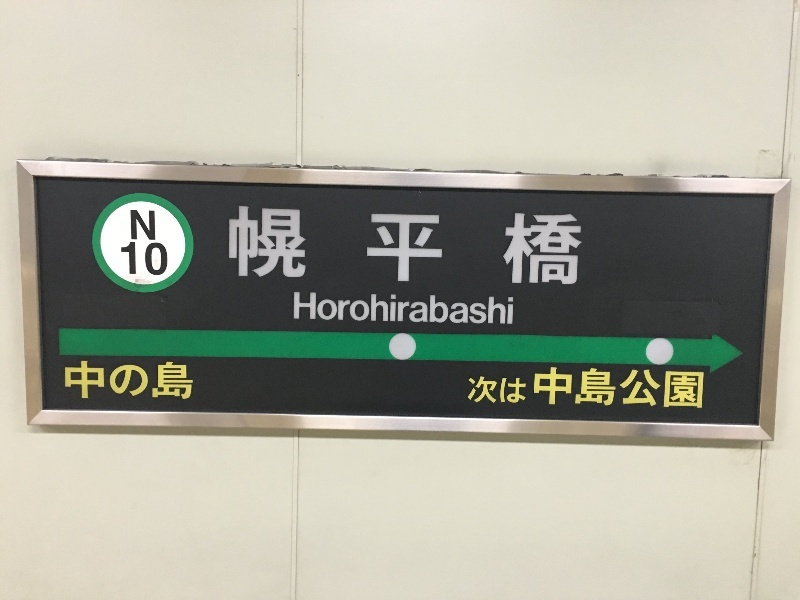text: (241, 204, 256, 288), (257, 204, 272, 288), (273, 204, 288, 288), (289, 204, 304, 288), (305, 204, 320, 288), (321, 204, 336, 288), (337, 204, 352, 288), (353, 204, 368, 288), (369, 204, 384, 288), (385, 204, 400, 288), (401, 204, 416, 288), (417, 204, 432, 288), (433, 204, 448, 288), (449, 204, 464, 288), (465, 204, 480, 288), (481, 204, 496, 288), (497, 204, 512, 288), (513, 204, 528, 288), (529, 204, 544, 288), (545, 204, 560, 288), (561, 204, 576, 288), (229, 204, 240, 288), (545, 364, 560, 412), (561, 364, 576, 412), (577, 364, 592, 412), (593, 364, 608, 412), (609, 364, 624, 412), (625, 364, 640, 412), (641, 364, 656, 412), (657, 364, 672, 412), (673, 364, 688, 412), (689, 364, 704, 412), (65, 358, 80, 403), (81, 358, 96, 403), (97, 358, 112, 403), (113, 358, 128, 403), (129, 358, 144, 403), (145, 358, 160, 403), (161, 358, 176, 403), (177, 358, 192, 403), (305, 290, 320, 328), (321, 290, 336, 328), (337, 290, 352, 328), (353, 290, 368, 328), (369, 290, 384, 328), (385, 290, 400, 328), (401, 290, 416, 328), (417, 290, 432, 328), (433, 290, 448, 328), (449, 290, 464, 328), (465, 290, 480, 328), (481, 290, 496, 328), (497, 290, 512, 328), (129, 243, 144, 279), (145, 243, 160, 279), (577, 204, 583, 288), (534, 364, 544, 412), (130, 209, 144, 243), (481, 375, 496, 405), (497, 375, 512, 405), (513, 375, 528, 405), (293, 290, 304, 328), (145, 209, 156, 243), (468, 375, 480, 405), (161, 243, 169, 279), (121, 243, 128, 279), (193, 358, 196, 403), (513, 290, 516, 328), (705, 364, 706, 412)
